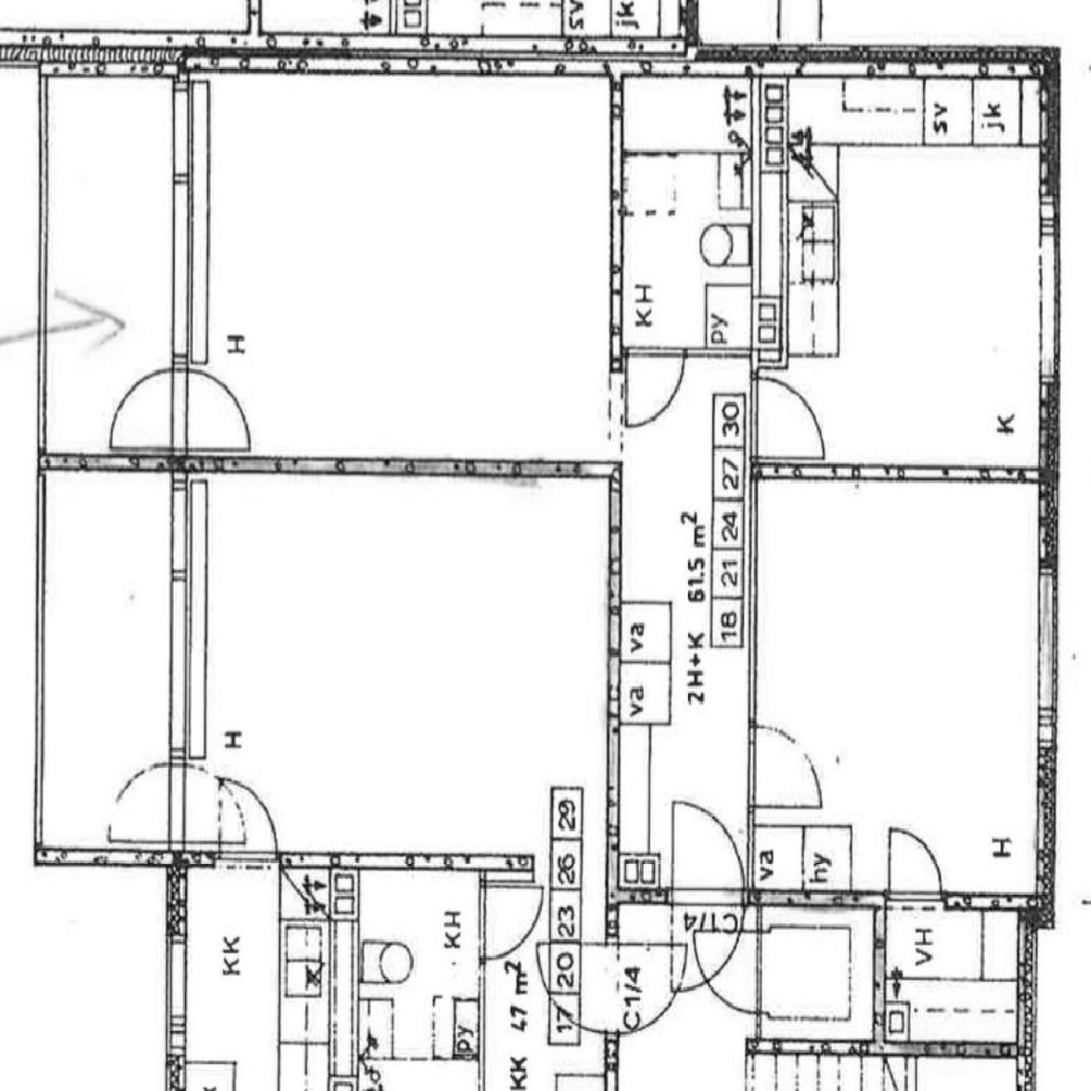wall: (173, 36, 699, 76), (1040, 47, 1058, 928), (699, 47, 1058, 76), (172, 461, 620, 479), (172, 36, 187, 479), (39, 36, 186, 76), (608, 461, 620, 909), (751, 460, 1058, 477), (751, 344, 760, 909), (608, 36, 620, 374), (608, 894, 883, 908), (751, 47, 760, 357), (1020, 894, 1037, 1058), (39, 461, 186, 479), (871, 1043, 1037, 1057), (883, 894, 1037, 908), (871, 908, 883, 1057), (1020, 893, 1058, 927), (608, 349, 760, 357), (871, 894, 883, 908)
